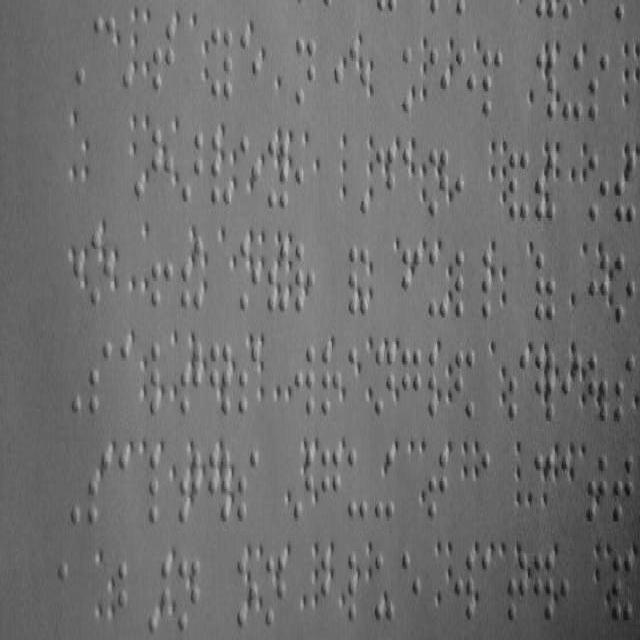braiile: (292, 342, 316, 418), (118, 449, 142, 524), (152, 18, 176, 92), (294, 34, 318, 108), (454, 245, 478, 319), (400, 549, 422, 629), (211, 23, 233, 101), (238, 31, 262, 102), (93, 13, 115, 89), (118, 340, 140, 416), (148, 448, 170, 524), (482, 45, 504, 119), (455, 45, 477, 119), (587, 152, 609, 226), (588, 252, 610, 326), (480, 448, 502, 521), (320, 346, 342, 418), (321, 447, 342, 522), (588, 51, 610, 122), (427, 249, 449, 320), (614, 253, 636, 324), (427, 449, 449, 520), (612, 451, 634, 522), (429, 43, 449, 121), (402, 346, 422, 418)
